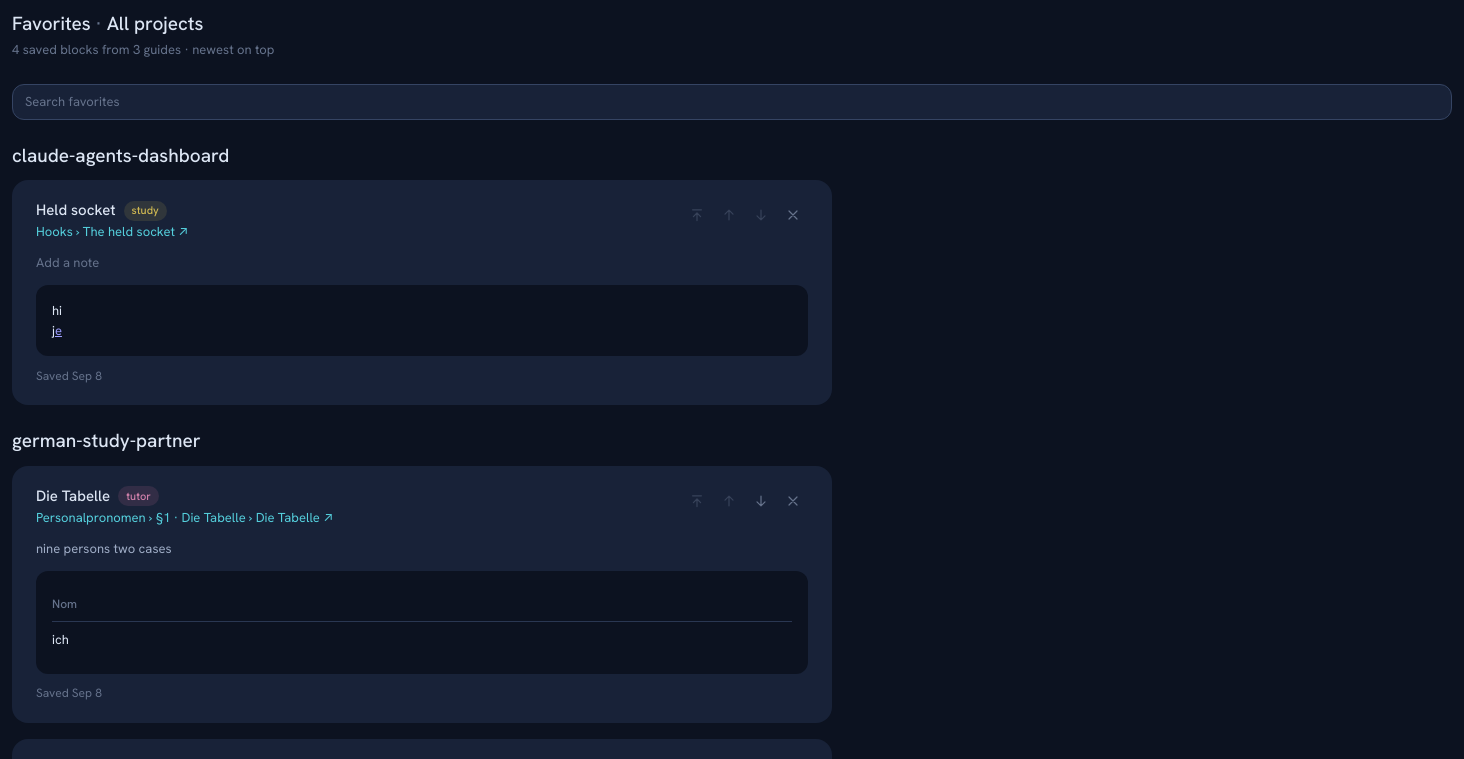
Test case: FavoritesView — card controls (Task 8) › shows f1's title as a prefilled input on click, and commits a changed value on Enter
expect the button "Held socket" is shown: met, box [36,200,116,221]
Click the button with class "fav-title" showing "Die Tabelle". click: (73, 496)
box: [36,486,110,507]
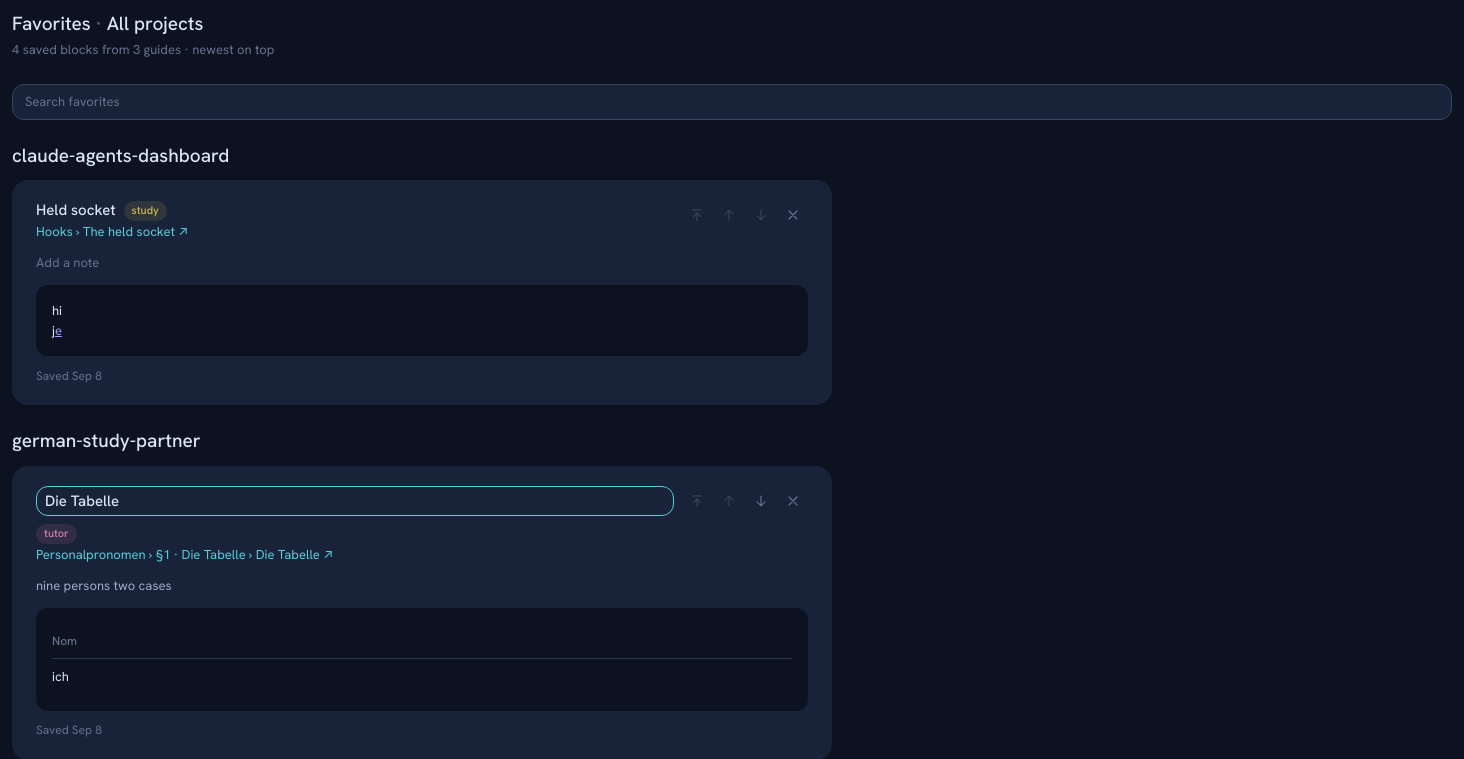
expect the field with class "fav-title-input" is shown: met
expect the field with class "fav-title-input" holds "Die Tabelle": met
Replace the text in the field with class "fav-title-input" with "Pronomen". click: (355, 501)
box: [36,486,674,516]
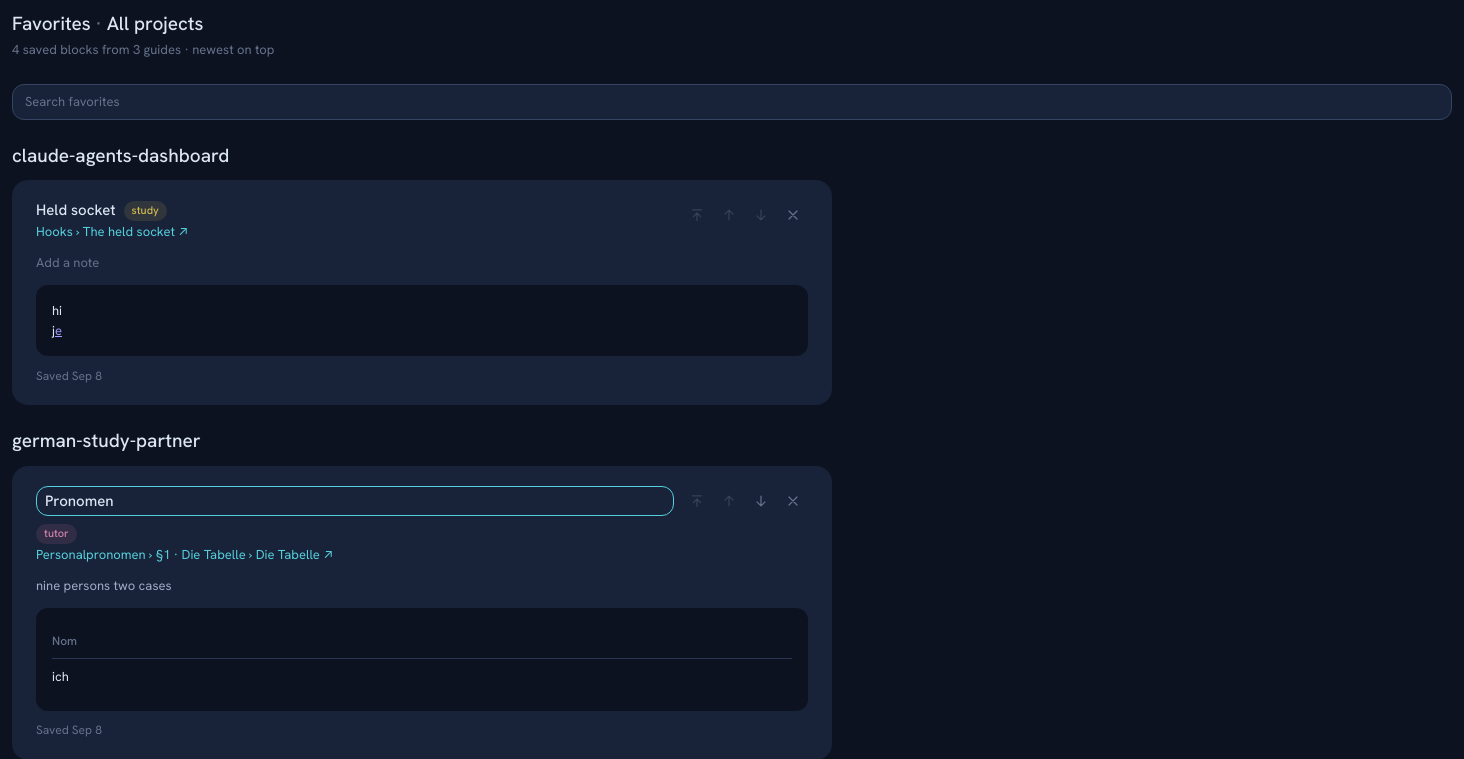
Press Enter in the field with class "fav-title-input", box [36,486,674,516]
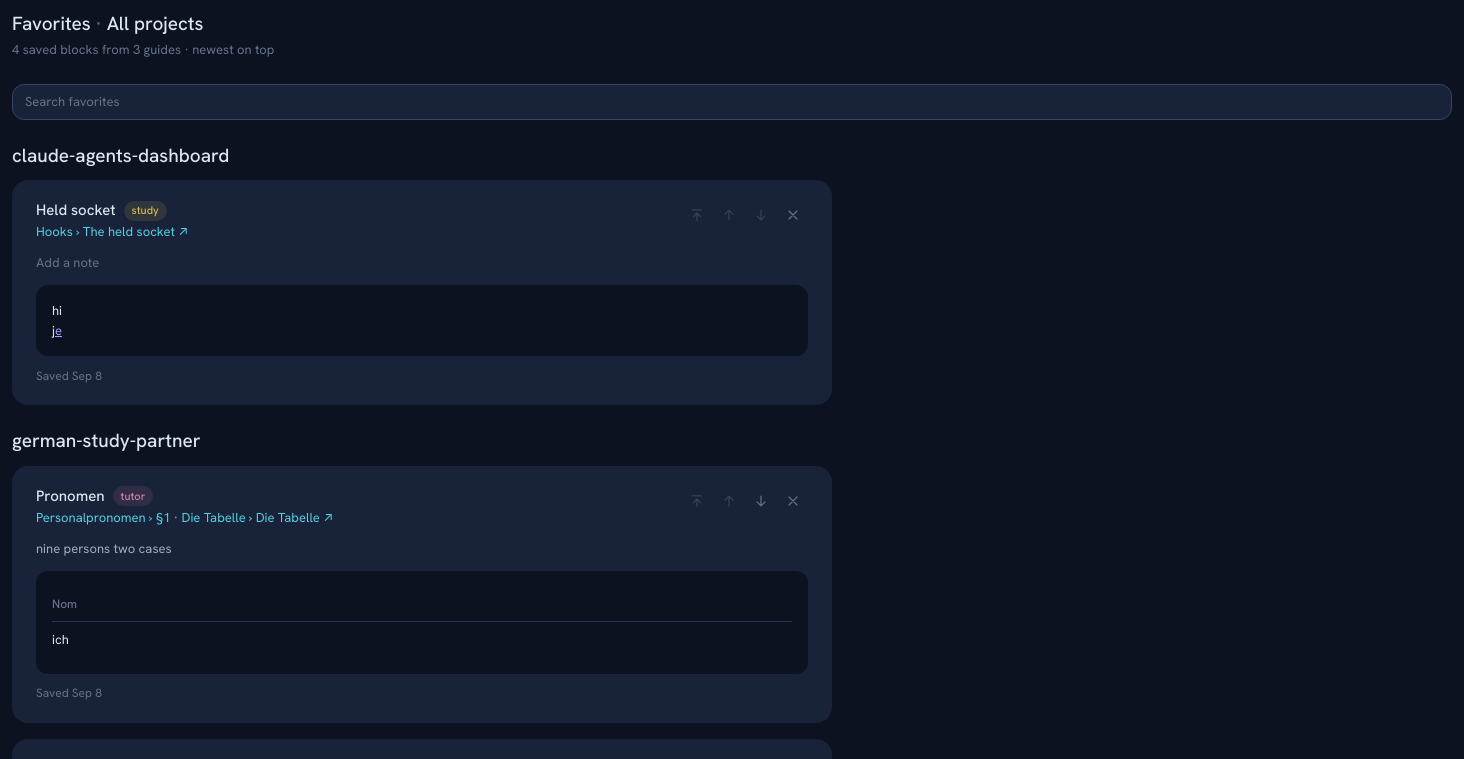
expect the button with class "fav-title" reads "Pronomen": met, box [36,486,105,507]
